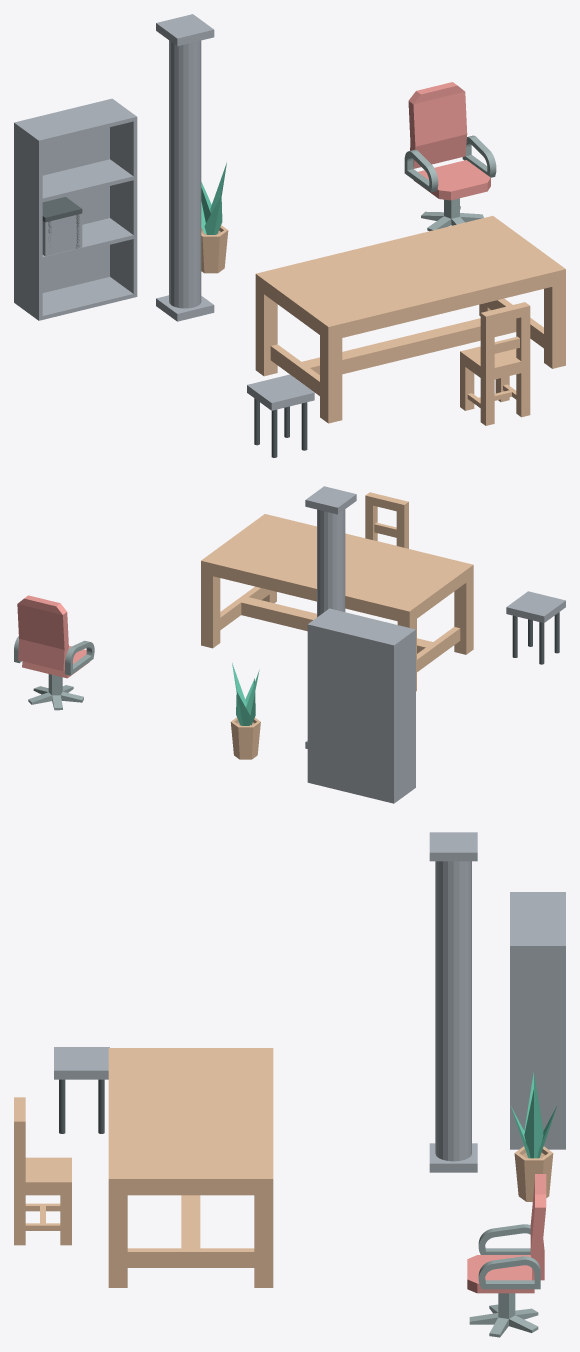
3 views of the same model, one above another, from view 1: azimuth 30°, elevation 25°; view 2: azimuth 150°, elevation 25°; view 3: azimuth 270°, elevation 25° (orthographic). The views are drawn at different scales.
Parts seen in each view (by area): view 1: table_green__table(Clone), column_cyan__column_cyan shaft, deskchair_black__chair, chair_cyan__chair(Clone), shelf_orange__shelf_orange back, shelf_orange__shelf_orange side_l, shelf_orange__shelf_orange side_r, shelf_orange__shelf_orange board3, shelf_orange__shelf_orange board2, shelf_orange__shelf_orange board0, stool_purple__stool_purple seat, box_yellow__box_yellow shell (+7 smaller); view 2: table_green__table(Clone), shelf_orange__shelf_orange back, deskchair_black__chair, shelf_orange__shelf_orange side_l, column_cyan__column_cyan shaft, chair_cyan__chair(Clone), shelf_orange__shelf_orange board3, stool_purple__stool_purple seat, plant_pink__pottedPlant(Clone), column_cyan__column_cyan capital, deskchair_black__chairDesk(Clone), plant_pink__plant (+1 smaller); view 3: table_green__table(Clone), column_cyan__column_cyan shaft, shelf_orange__shelf_orange side_r, deskchair_black__chair, chair_cyan__chair(Clone), shelf_orange__shelf_orange board3, stool_purple__stool_purple seat, deskchair_black__chairDesk(Clone), column_cyan__column_cyan capital, plant_pink__pottedPlant(Clone), plant_pink__plant, column_cyan__column_cyan plinth.
Part boxes in pixels (x1,y1,x2,y2): table_green__table(Clone): (255, 216, 565, 423); column_cyan__column_cyan shaft: (169, 40, 201, 308); deskchair_black__chair: (404, 82, 496, 200); chair_cyan__chair(Clone): (460, 302, 530, 425); shelf_orange__shelf_orange back: (18, 99, 109, 292); shelf_orange__shelf_orange side_l: (14, 121, 42, 320); shelf_orange__shelf_orange side_r: (109, 98, 137, 297); shelf_orange__shelf_orange board3: (19, 100, 133, 143); shelf_orange__shelf_orange board2: (42, 159, 133, 202); shelf_orange__shelf_orange board0: (42, 277, 133, 319); stool_purple__stool_purple seat: (247, 374, 314, 410); box_yellow__box_yellow shell: (42, 213, 82, 256); table_green__table(Clone): (201, 514, 473, 691); shelf_orange__shelf_orange back: (311, 624, 391, 802); deskchair_black__chair: (14, 595, 94, 678); shelf_orange__shelf_orange side_l: (391, 629, 415, 803); column_cyan__column_cyan shaft: (317, 509, 345, 617); chair_cyan__chair(Clone): (365, 492, 408, 548); shelf_orange__shelf_orange board3: (312, 609, 412, 643); stool_purple__stool_purple seat: (506, 591, 565, 622); plant_pink__pottedPlant(Clone): (230, 717, 260, 759); column_cyan__column_cyan capital: (305, 486, 356, 514); deskchair_black__chairDesk(Clone): (28, 674, 83, 710); plant_pink__plant: (232, 663, 259, 725); table_green__table(Clone): (108, 1048, 273, 1287); column_cyan__column_cyan shaft: (435, 861, 471, 1161); shelf_orange__shelf_orange side_r: (510, 944, 565, 1149); deskchair_black__chair: (467, 1174, 546, 1293); chair_cyan__chair(Clone): (14, 1097, 71, 1245); shelf_orange__shelf_orange board3: (510, 894, 562, 943); stool_purple__stool_purple seat: (54, 1047, 109, 1079); deskchair_black__chairDesk(Clone): (469, 1293, 538, 1337); column_cyan__column_cyan capital: (429, 832, 477, 861); plant_pink__pottedPlant(Clone): (514, 1146, 553, 1201); plant_pink__plant: (511, 1072, 556, 1158); column_cyan__column_cyan plinth: (429, 1143, 477, 1172).
Bounding box in the file's own units: 3.61 × 2.2 × 3.44.
